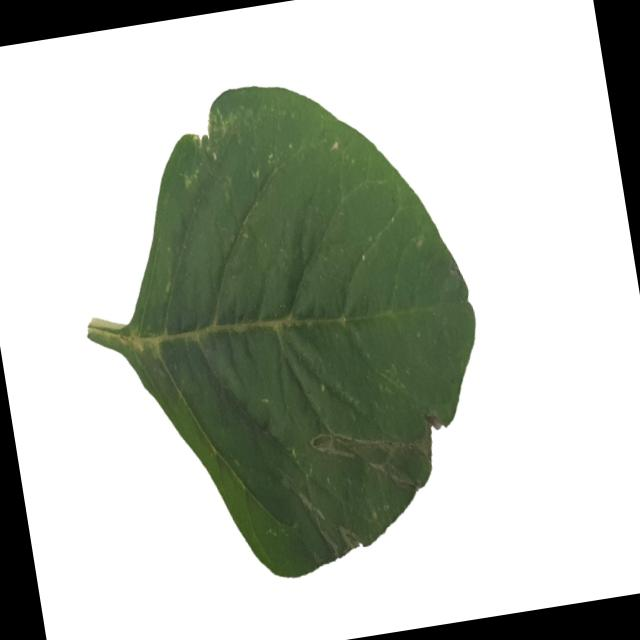Medicinal-Arive Dantu: (48, 56, 512, 606)
